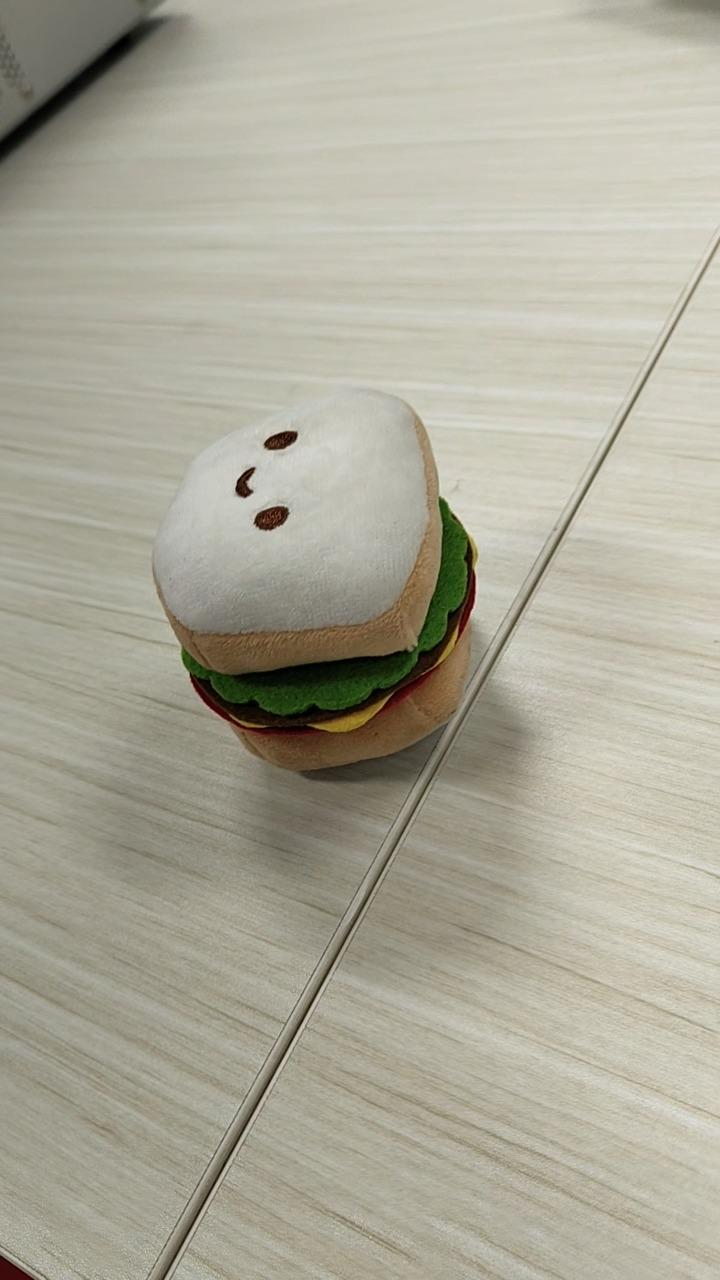objects: (150, 382, 478, 773)
